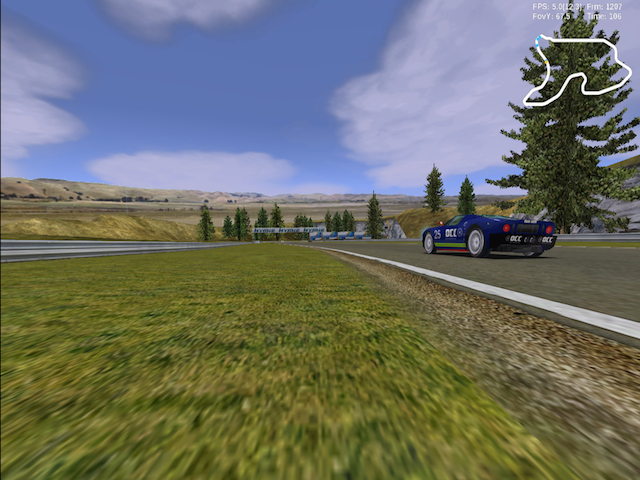FMC_GT4: (421, 215, 558, 257)
